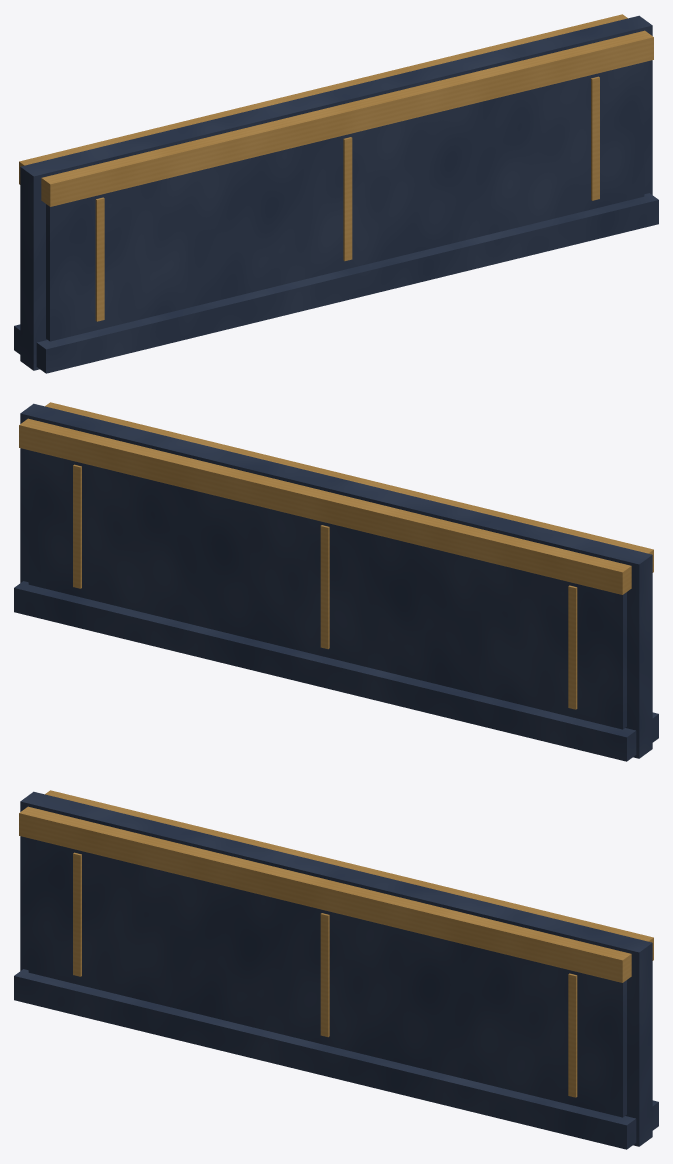
File: SM_Theater_Wall_Wainscot4.fbx
The picture shows the model from 3 angles, top to bottom: view 1: azimuth 30°, elevation 25°; view 2: azimuth 150°, elevation 25°; view 3: azimuth 330°, elevation 25°; orthographic projection.
Visible parts, largest first — view 1: SM_Theater_Wall_Wainscot4_LOD0; view 2: SM_Theater_Wall_Wainscot4_LOD0; view 3: SM_Theater_Wall_Wainscot4_LOD0.
Boxes of the visible parts, x1,y1,x2,y2 form: SM_Theater_Wall_Wainscot4_LOD0: (14,14,658,373); SM_Theater_Wall_Wainscot4_LOD0: (14,402,658,761); SM_Theater_Wall_Wainscot4_LOD0: (14,790,658,1149).
Size of what is drawn, in the model's own units: 4 by 1.2 by 0.36.
